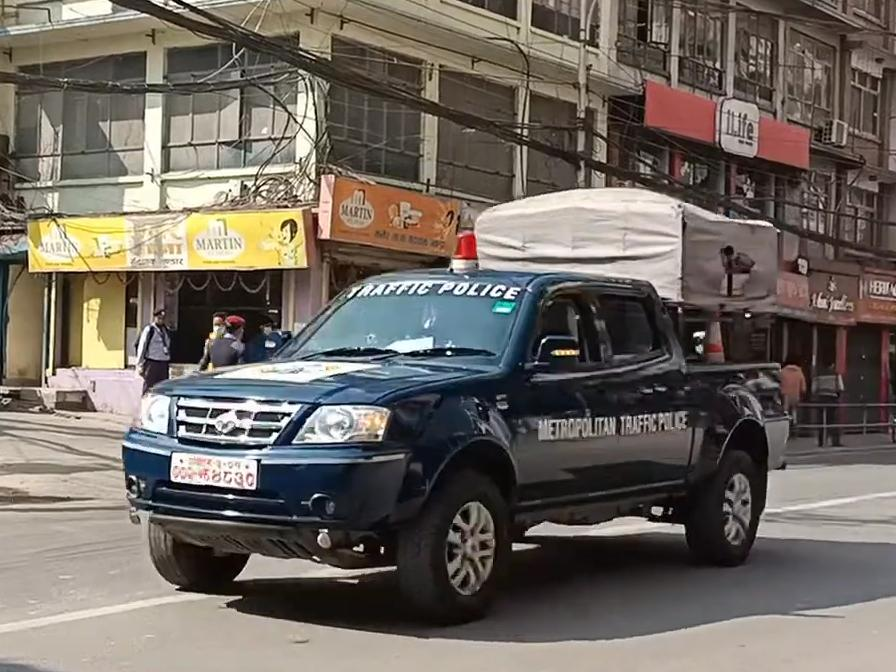police_vehicle: (113, 180, 805, 643)
